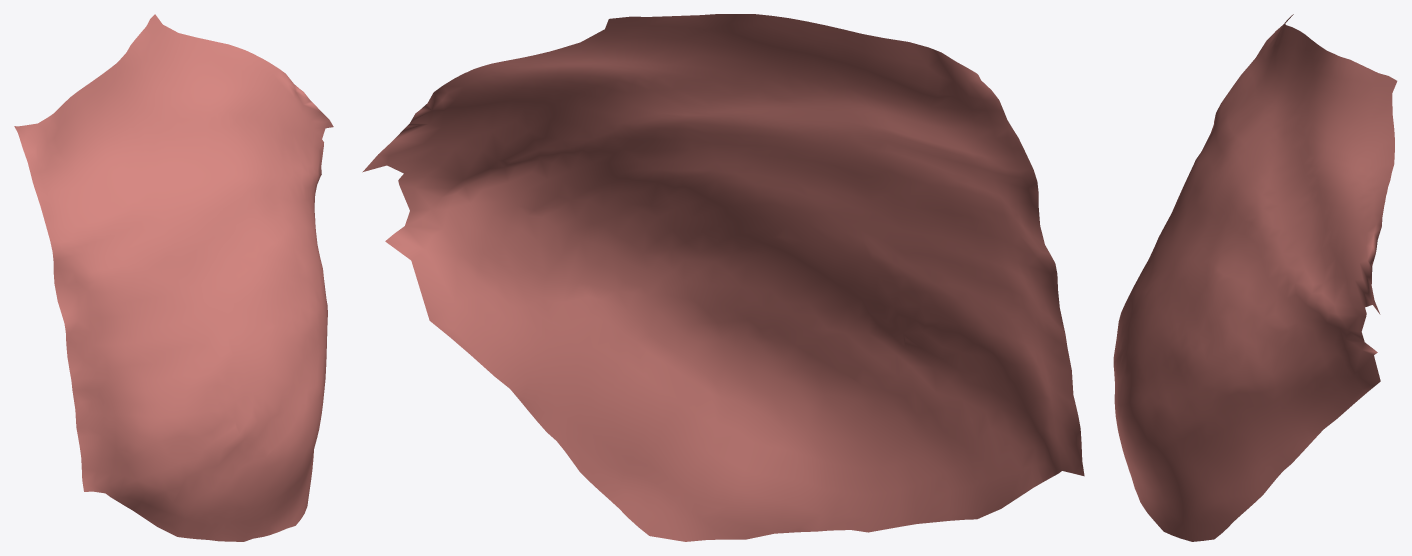
3 renders of one model, left to right at view 1: azimuth 30°, elevation 25°; view 2: azimuth 150°, elevation 25°; view 3: azimuth 270°, elevation 25°, orthographic. The views are drawn at different scales.
Visible parts, largest first — view 1: ZA_4e96004f27d1820c; view 2: ZA_4e96004f27d1820c; view 3: ZA_4e96004f27d1820c.
Part boxes in pixels (x1,y1,x2,y2): ZA_4e96004f27d1820c: (14,14,333,541); ZA_4e96004f27d1820c: (362,14,1084,541); ZA_4e96004f27d1820c: (1113,14,1397,541).
Size of the model in its own units: 0.1723 by 0.1969 by 0.1155.
